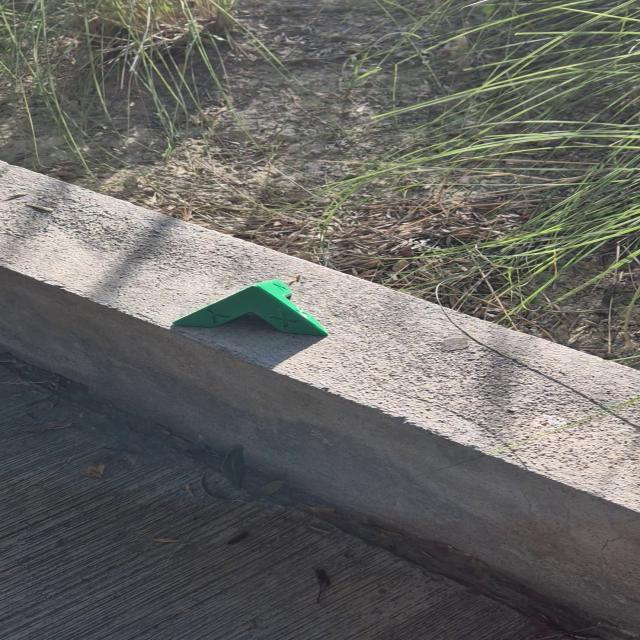objects: (170, 278, 330, 338)
